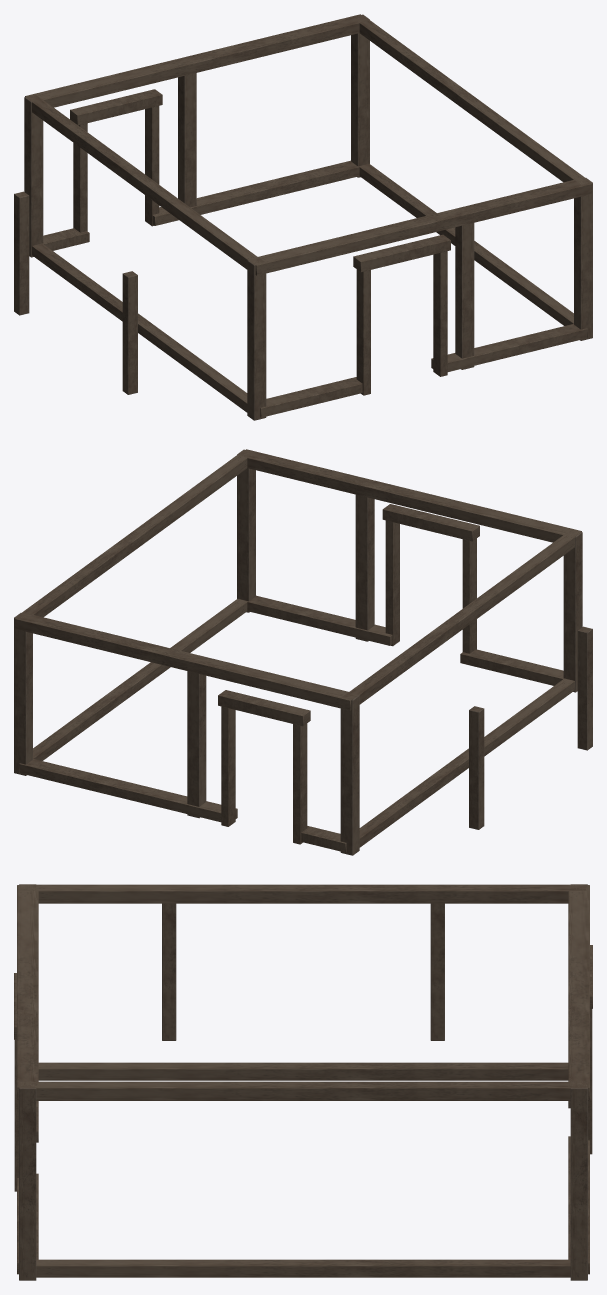
The model's file is BW_MillerCottage01_Timber.fbx.
3 views of the same model, one above another, from view 1: azimuth 30°, elevation 25°; view 2: azimuth 150°, elevation 25°; view 3: azimuth 270°, elevation 25° (orthographic). The views are drawn at different scales.
Parts seen in each view (by area): view 1: BW_MillerCottage01_Timber; view 2: BW_MillerCottage01_Timber; view 3: BW_MillerCottage01_Timber.
Part boxes in pixels (x1=…): BW_MillerCottage01_Timber: x1=14, y1=14, x2=592, y2=420; BW_MillerCottage01_Timber: x1=14, y1=449, x2=592, y2=855; BW_MillerCottage01_Timber: x1=14, y1=884, x2=592, y2=1280.
Bounding box in the file's own units: 8.22 × 3 × 8.19.
